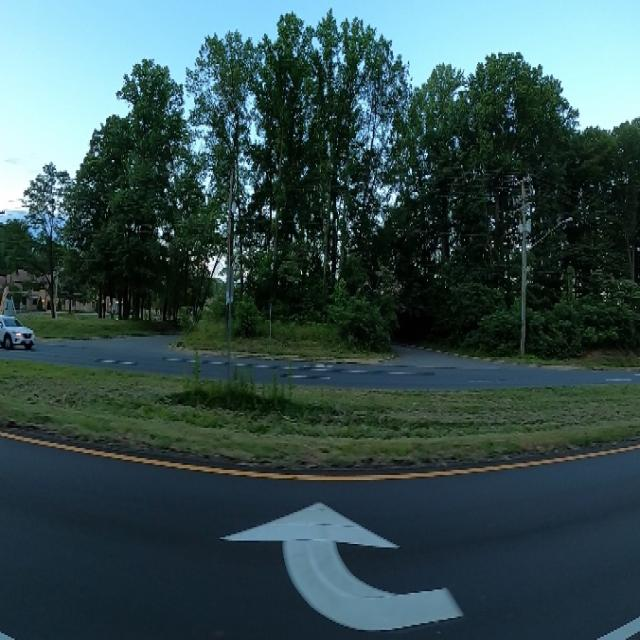cars: (0, 313, 31, 357)
